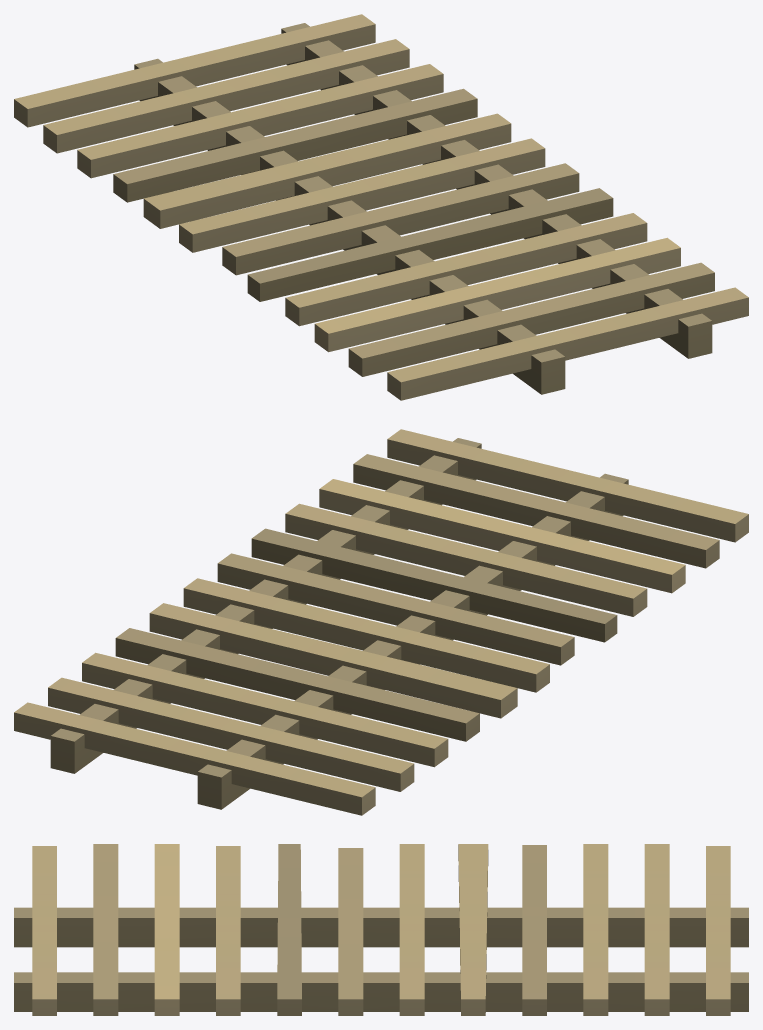
The model's file is TSP_Garden_Ceiling_Canopy_01A.fbx.
3 views of the same model, one above another, from view 1: azimuth 30°, elevation 25°; view 2: azimuth 150°, elevation 25°; view 3: azimuth 270°, elevation 25° (orthographic). The views are drawn at different scales.
Visible parts, largest first — view 1: TSP_Garden_Ceiling_Canopy_01A; view 2: TSP_Garden_Ceiling_Canopy_01A; view 3: TSP_Garden_Ceiling_Canopy_01A.
Part boxes in pixels (x1,y1,x2,y2): TSP_Garden_Ceiling_Canopy_01A: (14, 14, 748, 400); TSP_Garden_Ceiling_Canopy_01A: (14, 429, 748, 815); TSP_Garden_Ceiling_Canopy_01A: (14, 844, 748, 1015).
Bounding box in the file's own units: 2 × 0.2 × 4.
